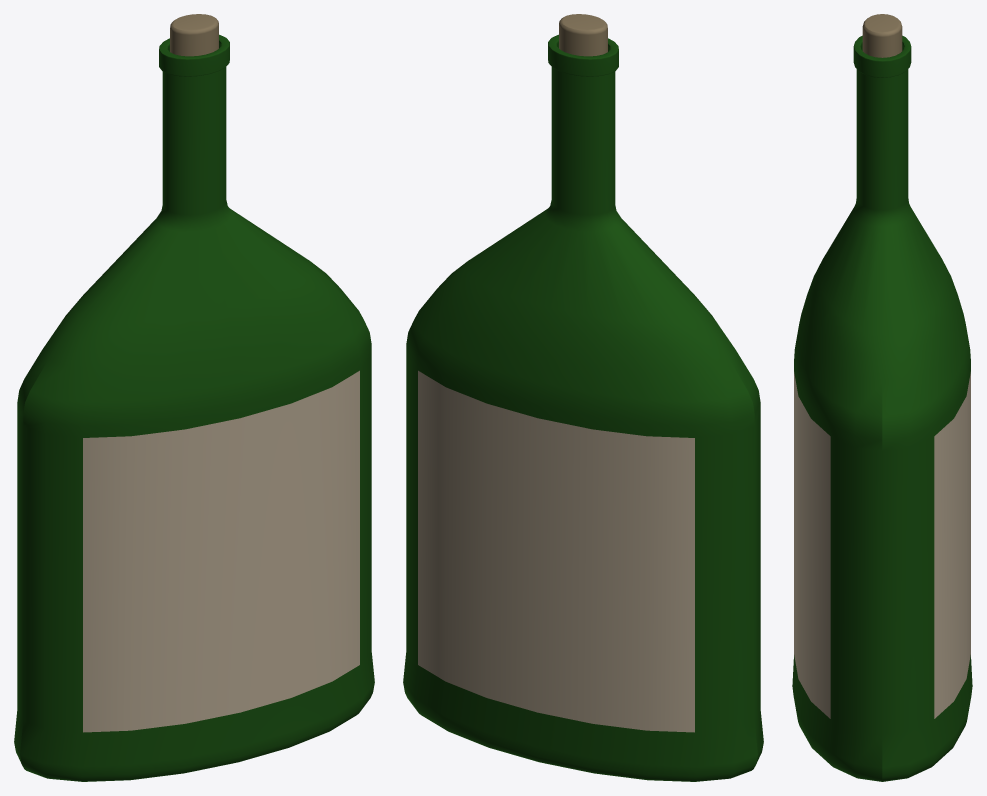
Rendered from green_whiskey_glass.fbx.
The picture shows the model from 3 angles, left to right: view 1: azimuth 30°, elevation 25°; view 2: azimuth 150°, elevation 25°; view 3: azimuth 270°, elevation 25°; orthographic projection. The views are drawn at different scales.
Parts seen in each view (by area): view 1: whiskey_bottle; view 2: whiskey_bottle; view 3: whiskey_bottle.
Part boxes in pixels (bbox=[...]): whiskey_bottle: bbox=[14, 14, 374, 781]; whiskey_bottle: bbox=[403, 14, 763, 781]; whiskey_bottle: bbox=[792, 14, 972, 781].
Size of the model in its own units: 2.04 by 3.96 by 0.9487.
